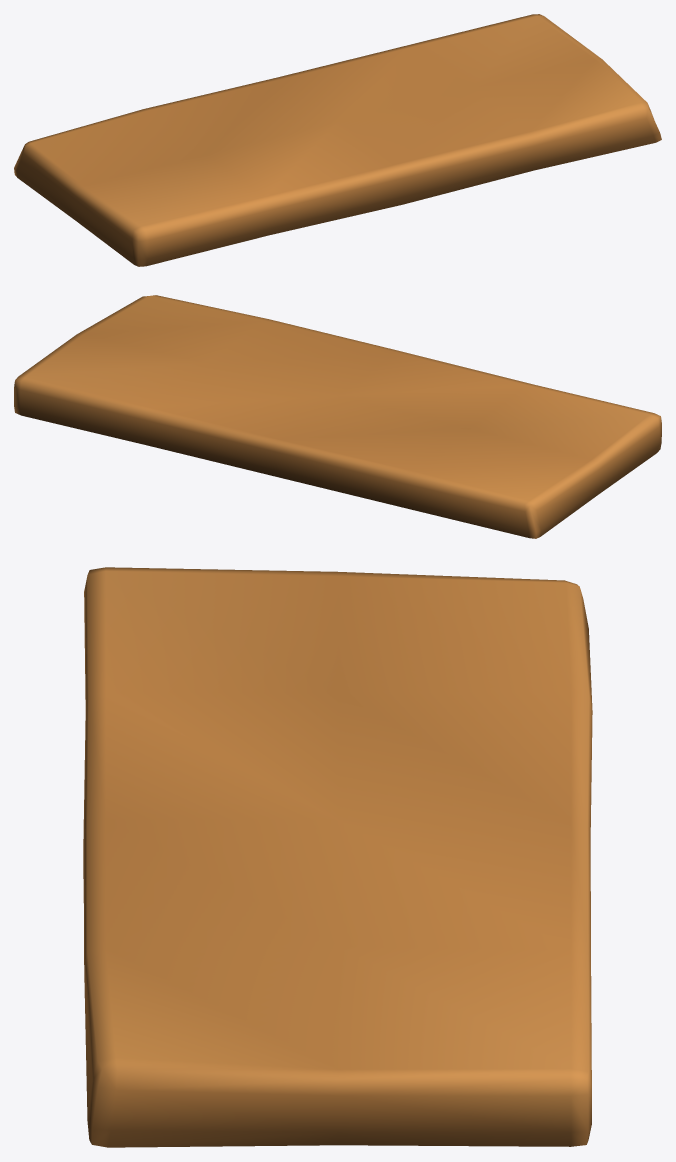
File: slab_d.glb
3 renders of one model, top to bottom at view 1: azimuth 30°, elevation 25°; view 2: azimuth 150°, elevation 25°; view 3: azimuth 270°, elevation 25°, orthographic. The views are drawn at different scales.
Visible parts, largest first — view 1: slab_d; view 2: slab_d; view 3: slab_d.
Part boxes in pixels (x1,y1,x2,y2): slab_d: (14,14,661,266); slab_d: (14,295,661,538); slab_d: (83,567,592,1147).
Bounding box in the file's own units: 2.4 × 0.1658 × 1.01.
